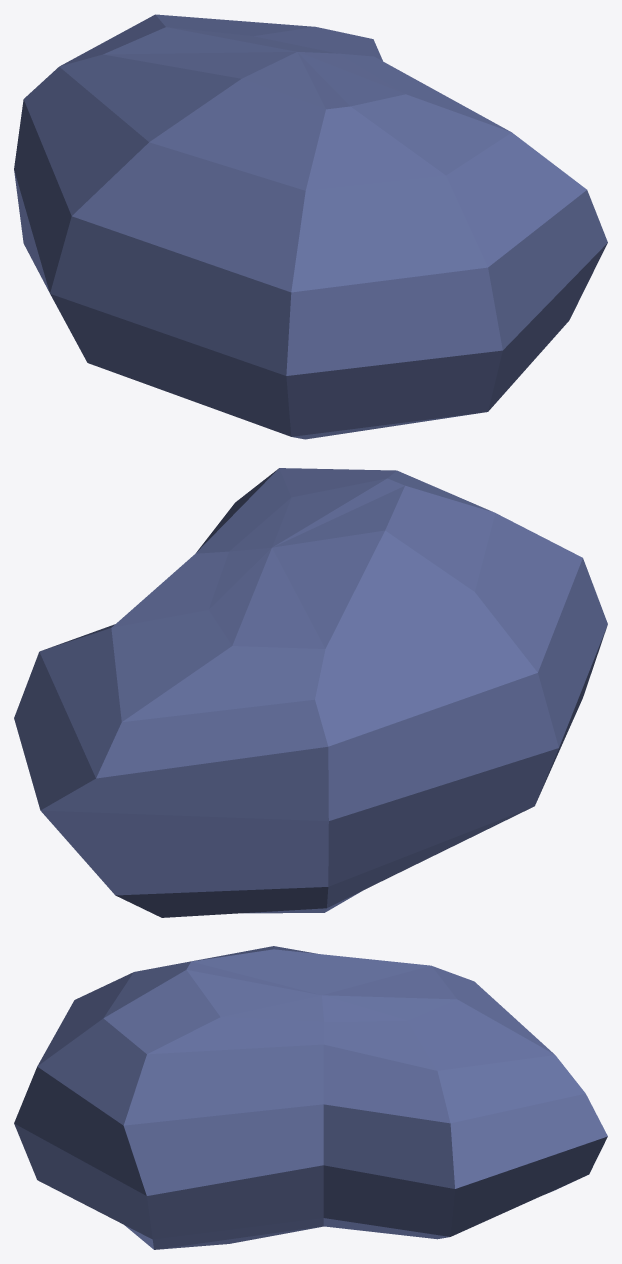
Rendered from Boulder_02.fbx.
3 views of the same model, one above another, from view 1: azimuth 30°, elevation 25°; view 2: azimuth 150°, elevation 25°; view 3: azimuth 270°, elevation 25° (orthographic). The views are drawn at different scales.
Visible parts, largest first — view 1: Boulder2; view 2: Boulder2; view 3: Boulder2.
Boxes of the visible parts, x1,y1,x2,y2 form: Boulder2: [14, 14, 607, 439]; Boulder2: [14, 468, 607, 917]; Boulder2: [14, 946, 607, 1249].
Bounding box in the file's own units: 132 × 82.81 × 183.
